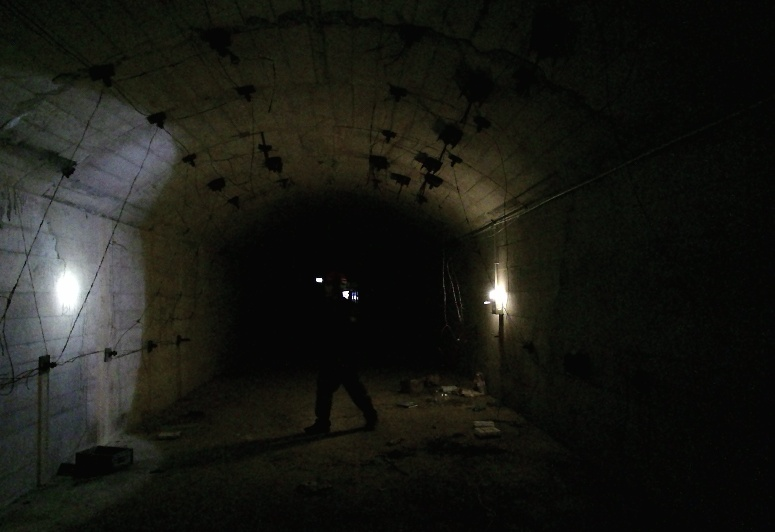person: (307, 270, 378, 434)
